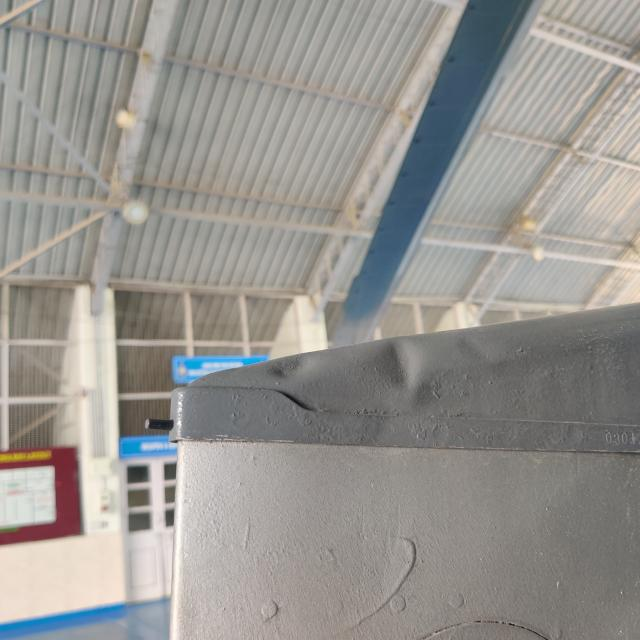dent: (371, 333, 427, 398), (264, 347, 316, 387)
